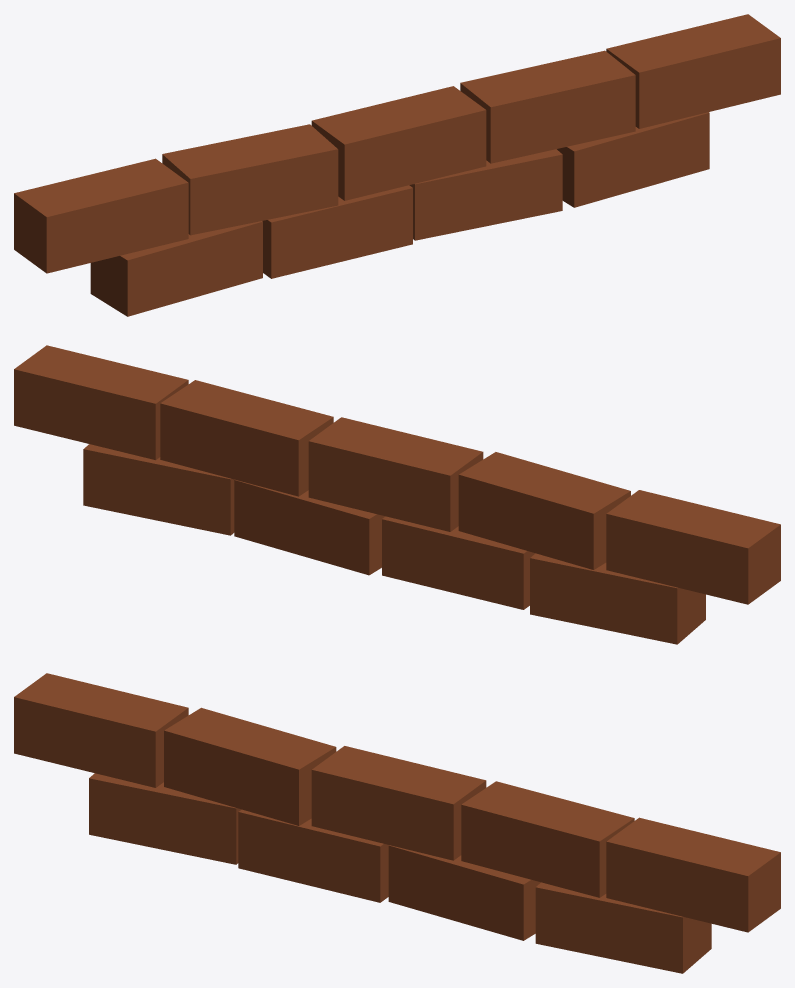
File: Brick Wall 1.glb
The picture shows the model from 3 angles, top to bottom: view 1: azimuth 30°, elevation 25°; view 2: azimuth 150°, elevation 25°; view 3: azimuth 330°, elevation 25°; orthographic projection.
Visible parts, largest first — view 1: BrickWall_1; view 2: BrickWall_1; view 3: BrickWall_1.
Part boxes in pixels (<box>): BrickWall_1: <box>14,14,780,316</box>; BrickWall_1: <box>14,345,780,644</box>; BrickWall_1: <box>14,673,780,973</box>.
Bounding box in the file's own units: 2.24 × 0.3392 × 0.206.
